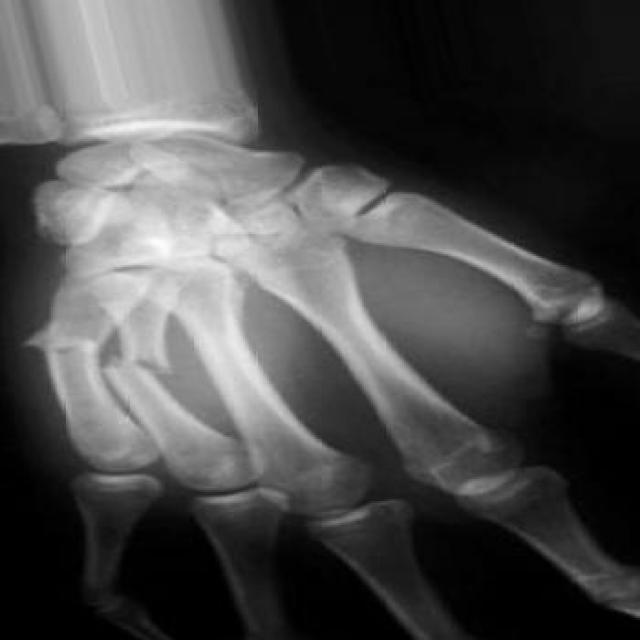Fracture: (108, 341, 183, 387), (22, 318, 99, 362)
